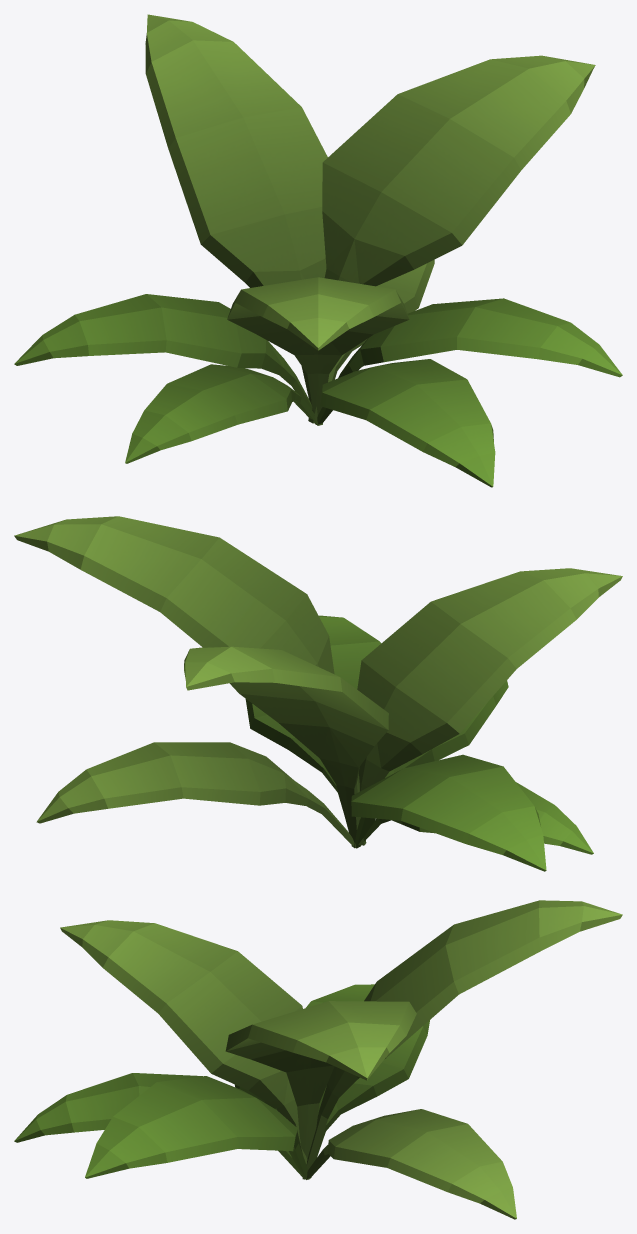
The model's file is Cavern_ShrubShort-02.fbx.
3 renders of one model, top to bottom at view 1: azimuth 30°, elevation 25°; view 2: azimuth 150°, elevation 25°; view 3: azimuth 270°, elevation 25°, orthographic. The views are drawn at different scales.
Visible parts, largest first — view 1: Cavern_ShrubShort-02; view 2: Cavern_ShrubShort-02; view 3: Cavern_ShrubShort-02.
Part boxes in pixels (x1,y1,x2,y2): Cavern_ShrubShort-02: (14,14,622,487); Cavern_ShrubShort-02: (14,516,622,871); Cavern_ShrubShort-02: (14,900,622,1219).
Size of the model in its own units: 116 by 58.4 by 118.
1 material, 1 textured.
